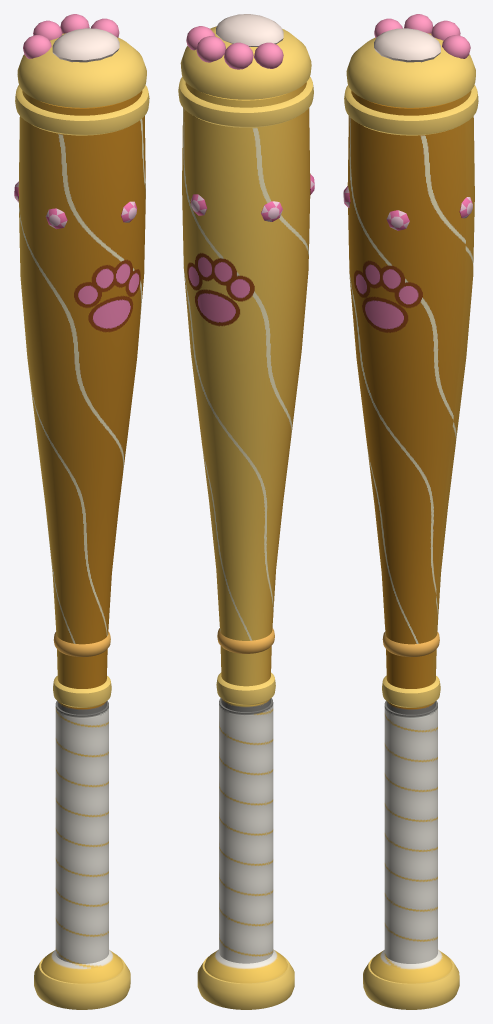
Rendered from Bat_Legendary.fbx.
3 views of the same model, side by side, from view 1: azimuth 30°, elevation 25°; view 2: azimuth 150°, elevation 25°; view 3: azimuth 330°, elevation 25° (orthographic).
Parts seen in each view (by area): view 1: Handle; view 2: Handle; view 3: Handle.
Part boxes in pixels (bbox=[...]): Handle: bbox=[14, 14, 149, 1009]; Handle: bbox=[178, 14, 314, 1009]; Handle: bbox=[343, 14, 478, 1009].
Bounding box in the file's own units: 0.453 × 3.56 × 0.452.
Materials: 1 (1 with a texture image).
